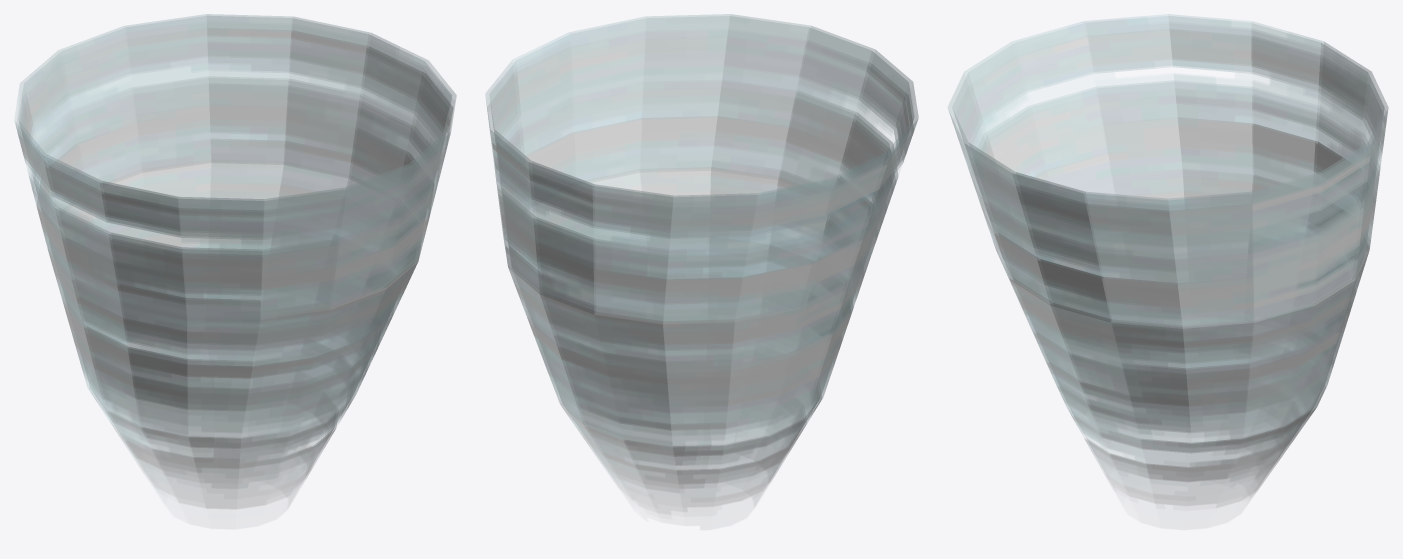
Rendered from water_tatumaki.obj.
3 views of the same model, side by side, from view 1: azimuth 30°, elevation 25°; view 2: azimuth 150°, elevation 25°; view 3: azimuth 270°, elevation 25° (orthographic). The views are drawn at different scales.
Visible parts, largest first — view 1: polySurface2; view 2: polySurface2; view 3: polySurface2.
Part boxes in pixels (<box>): polySurface2: <box>14,14,456,509</box>; polySurface2: <box>485,14,918,518</box>; polySurface2: <box>947,14,1388,510</box>.
Bounding box in the file's own units: 150 × 156 × 150.
2 materials, 2 textured.
